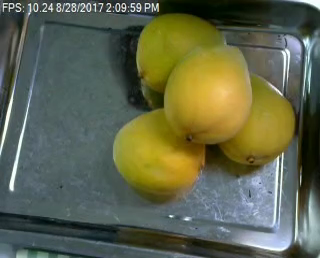Mango: (163, 45, 252, 143), (209, 68, 296, 164), (112, 108, 205, 194), (135, 14, 226, 91)
